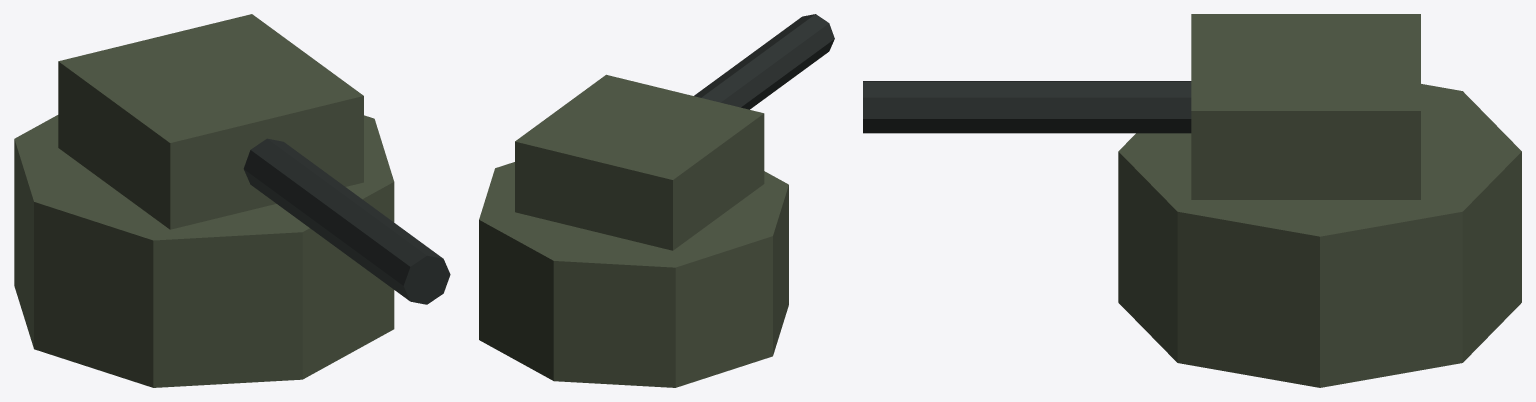
The model's file is Bastion_Turret_LOD1.obj.
The picture shows the model from 3 angles, left to right: view 1: azimuth 30°, elevation 25°; view 2: azimuth 150°, elevation 25°; view 3: azimuth 270°, elevation 25°; orthographic projection. The views are drawn at different scales.
Parts seen in each view (by area): view 1: Bastion_Turret_LOD1; view 2: Bastion_Turret_LOD1; view 3: Bastion_Turret_LOD1.
Part boxes in pixels (box(x1,y1,x2,y2)): Bastion_Turret_LOD1: box(14, 14, 450, 387); Bastion_Turret_LOD1: box(479, 14, 834, 387); Bastion_Turret_LOD1: box(863, 14, 1521, 387).
Bounding box in the file's own units: 2.9 × 1.9 × 4.74.
1 material, 1 textured.
